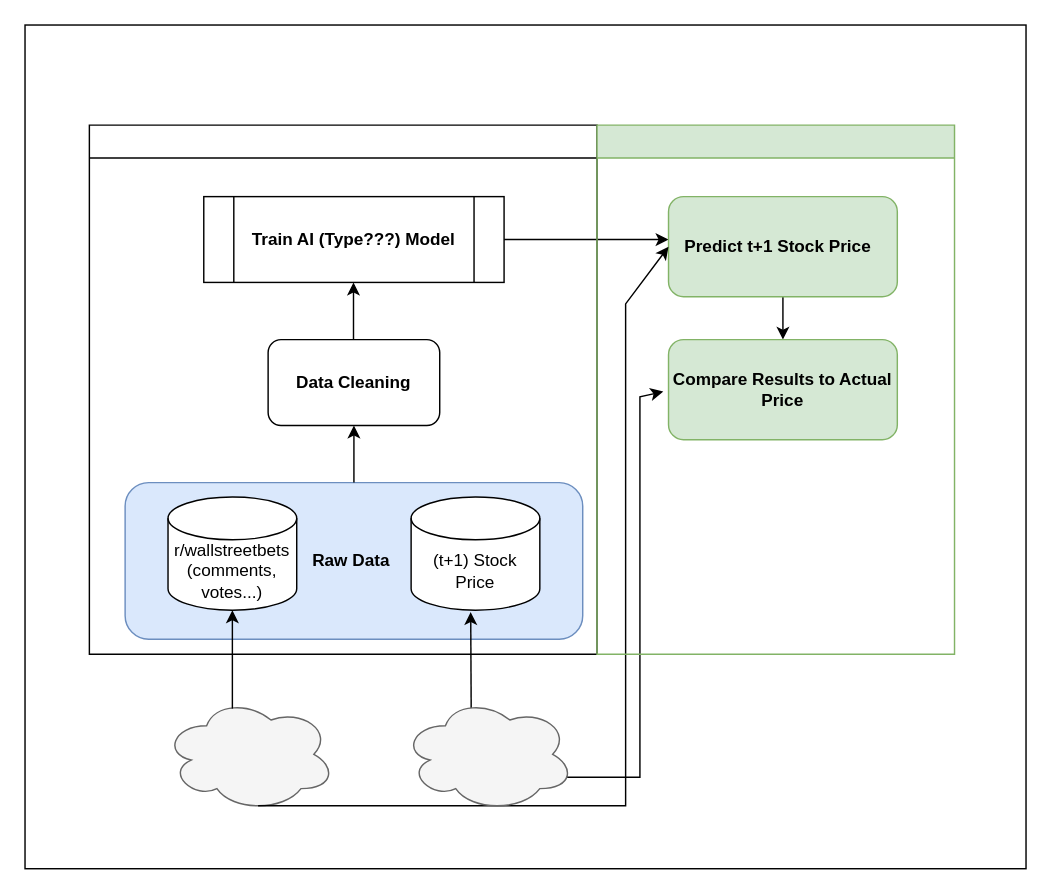
This 1051x894 diagram has some shape labels left out. Each missing label, with the centre of its shape:
Generating the AI Model: the point at 342,389
PAWD API: the point at 248,754
Stock Api ?: the point at 487,754
Working AI Model: the point at 775,389
